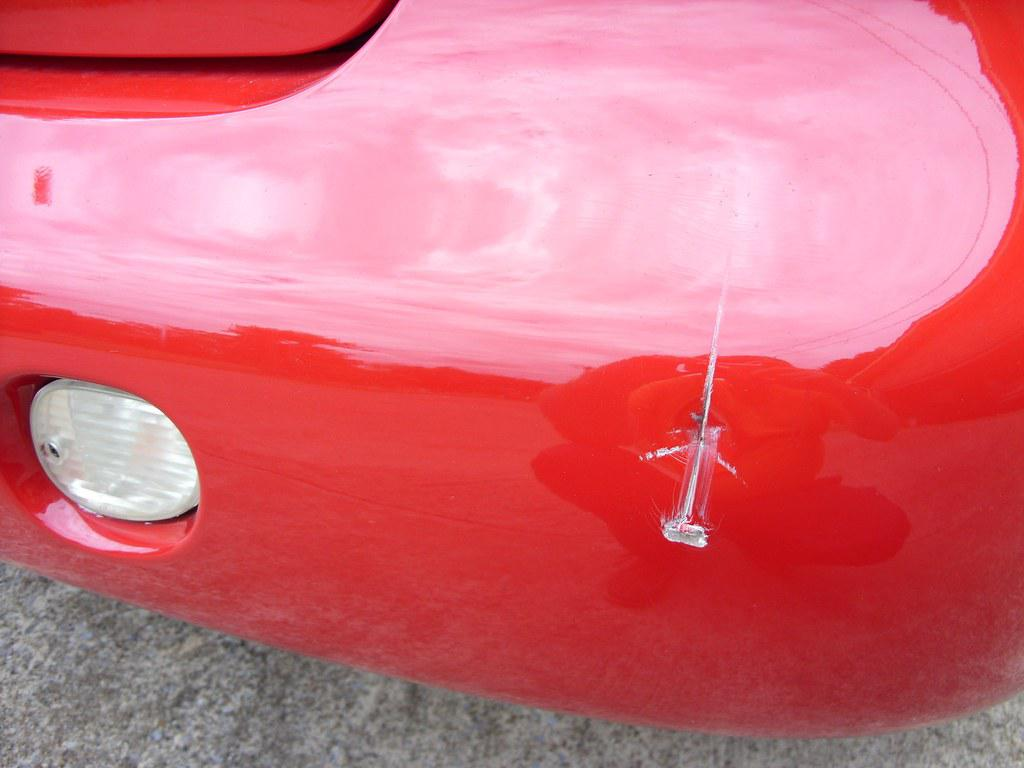rear-bumper-dent: (0, 193, 1023, 741)
